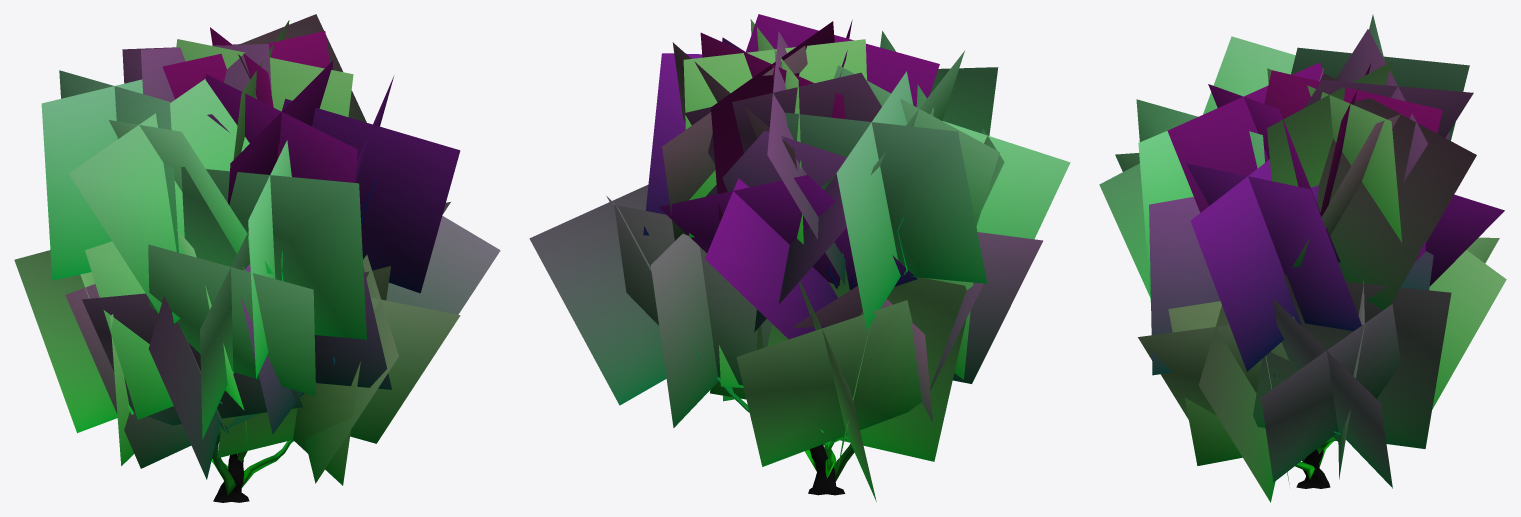
The model's file is M_P1_Tree_9.fbx.
3 renders of one model, left to right at view 1: azimuth 30°, elevation 25°; view 2: azimuth 150°, elevation 25°; view 3: azimuth 270°, elevation 25°, orthographic. The views are drawn at different scales.
Parts seen in each view (by area): view 1: M_Tree_1_9; view 2: M_Tree_1_9; view 3: M_Tree_1_9.
Boxes of the visible parts, <box> form: M_Tree_1_9: <box>14,14,500,502</box>; M_Tree_1_9: <box>529,14,1070,501</box>; M_Tree_1_9: <box>1099,14,1506,502</box>.
Size of the model in its own units: 731 by 731 by 635.
